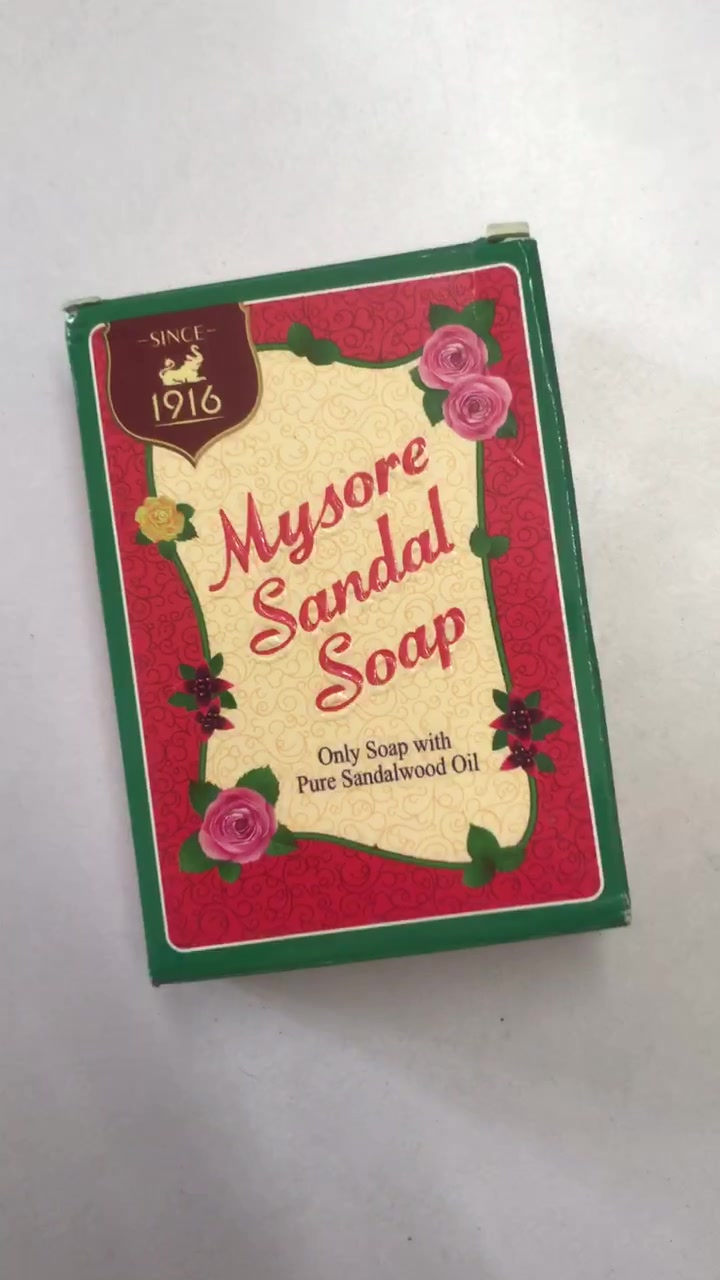mysore sandal soap: (69, 249, 630, 980)
